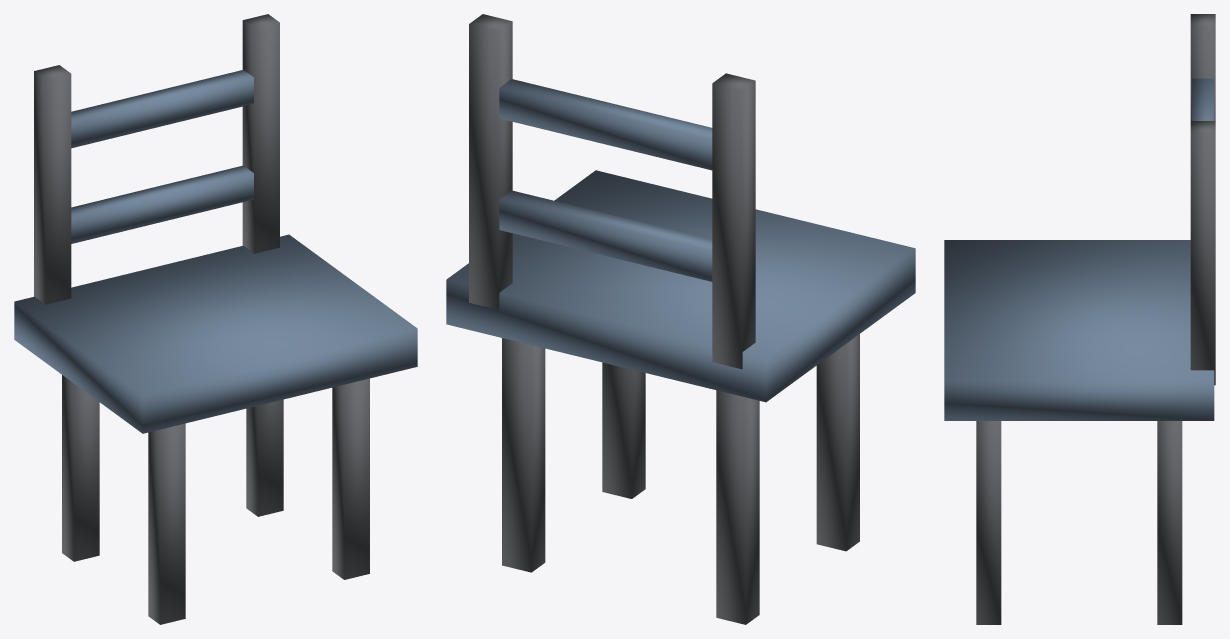
The model's file is armchair__wide.glb.
3 renders of one model, left to right at view 1: azimuth 30°, elevation 25°; view 2: azimuth 150°, elevation 25°; view 3: azimuth 270°, elevation 25°, orthographic. The views are drawn at different scales.
Visible parts, largest first — view 1: world; view 2: world; view 3: world.
Boxes of the visible parts, x1,y1,x2,y2 form: world: (14, 14, 417, 624); world: (446, 14, 915, 624); world: (944, 14, 1215, 624).
Size of the model in its own units: 0.6009 by 0.9892 by 0.4891.
